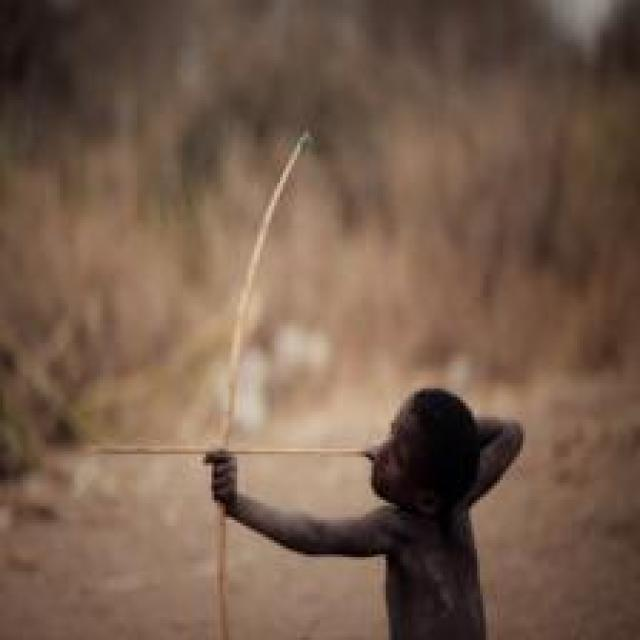X-Bow: (136, 100, 324, 640)
